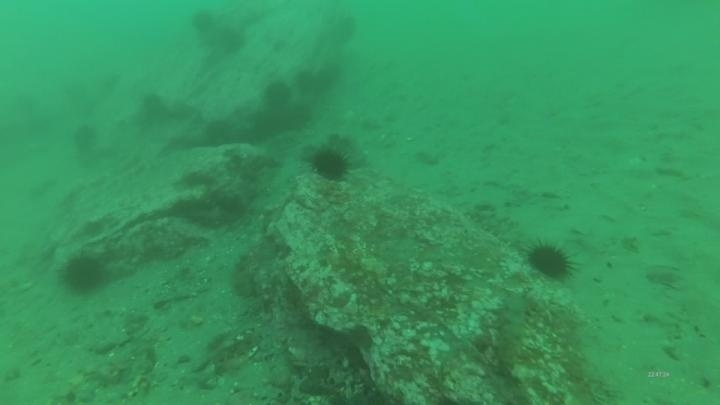echinus: (59, 250, 109, 297), (525, 239, 577, 282), (308, 145, 353, 182), (326, 12, 360, 48), (312, 59, 345, 94), (261, 79, 294, 112), (215, 24, 248, 56), (281, 101, 314, 133), (71, 121, 100, 154), (188, 8, 218, 37), (293, 67, 322, 97), (141, 91, 166, 117)
holothurian: (491, 287, 538, 376)
